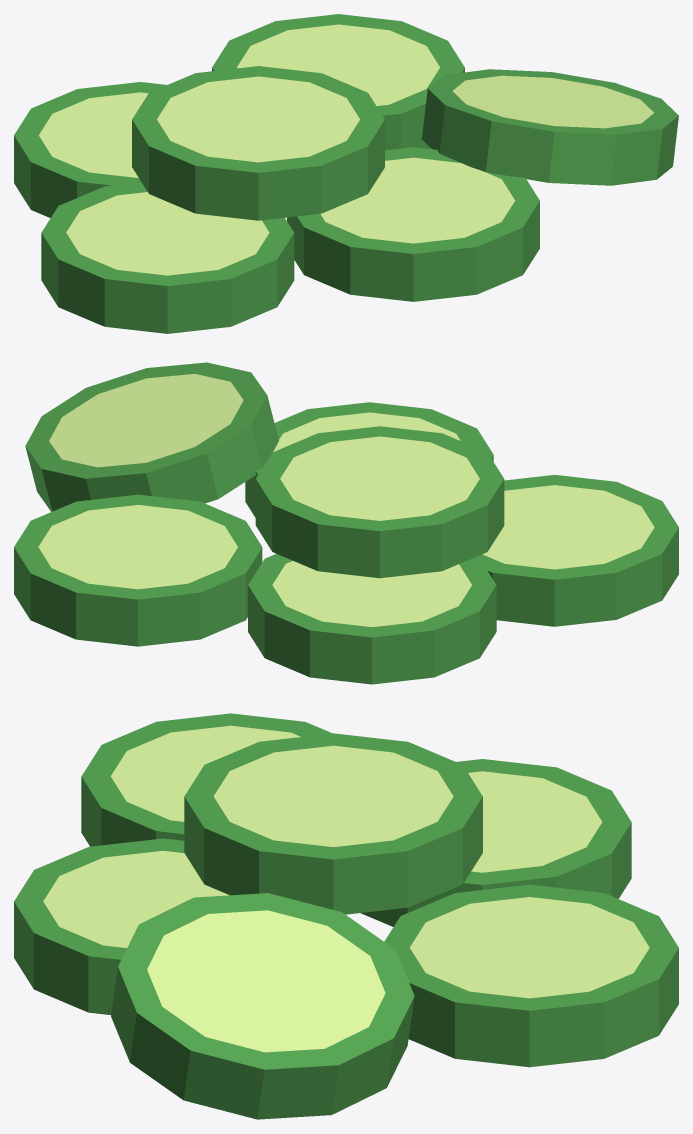
File: SM_Cucumber_Sliced.fbx
3 renders of one model, top to bottom at view 1: azimuth 30°, elevation 25°; view 2: azimuth 150°, elevation 25°; view 3: azimuth 270°, elevation 25°, orthographic. The views are drawn at different scales.
Parts seen in each view (by area): view 1: sliced cucumber; view 2: sliced cucumber; view 3: sliced cucumber.
Part boxes in pixels (box(x1,y1,x2,y2)): sliced cucumber: box(14, 14, 678, 333); sliced cucumber: box(14, 362, 678, 684); sliced cucumber: box(14, 713, 678, 1119).
Size of the model in its own units: 52.69 by 8.09 by 41.63.
